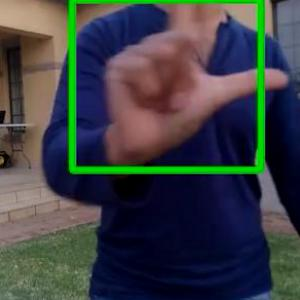land_hand: (92, 0, 294, 159)
